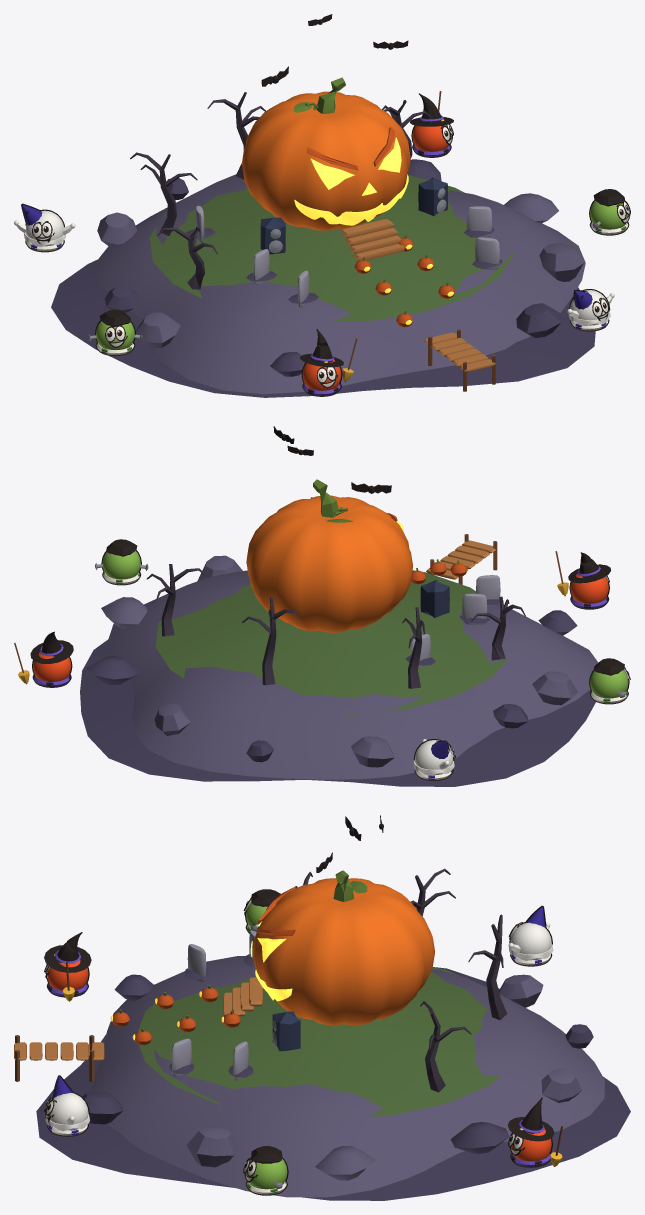
File: halloween.glb
The picture shows the model from 3 angles, top to bottom: view 1: azimuth 30°, elevation 25°; view 2: azimuth 150°, elevation 25°; view 3: azimuth 270°, elevation 25°; orthographic projection. The views are drawn at different scales.
Visible parts, largest first — view 1: halloween_isla; view 2: halloween_isla; view 3: halloween_isla.
Part boxes in pixels (left/top/right/bottom): halloween_isla: left=14, top=14, right=630, bottom=397; halloween_isla: left=14, top=426, right=630, bottom=786; halloween_isla: left=14, top=815, right=630, bottom=1200.
Bounding box in the file's own units: 18.44 × 8.35 × 17.23.
